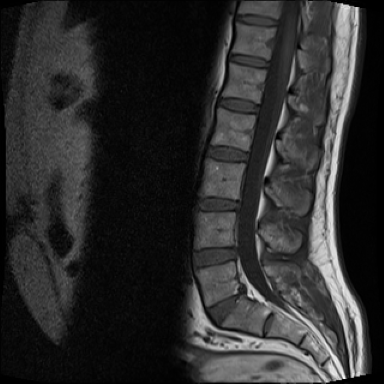Degenerative Disc Disease (DDD): (203, 287, 253, 329)
Lumbar Disc Bulge (LDB): (203, 285, 248, 333)
Normal IVD: (190, 243, 244, 274), (190, 191, 248, 216), (203, 143, 255, 165), (227, 48, 272, 73), (215, 97, 268, 117), (235, 12, 282, 30)
Spinal Stenosis (SS): (237, 283, 253, 304)
